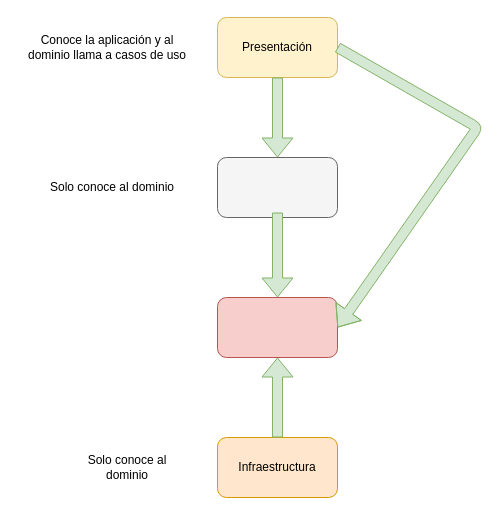
Some shapes in this 498 by 515 pixel diagram are drawn without their labels. The shapes that lost their labels are listed below. From the top down, each one's centre as x and y in pixels, then its label:
At point 277,187: "Aplicación".
At point 277,327: "Dominio".
